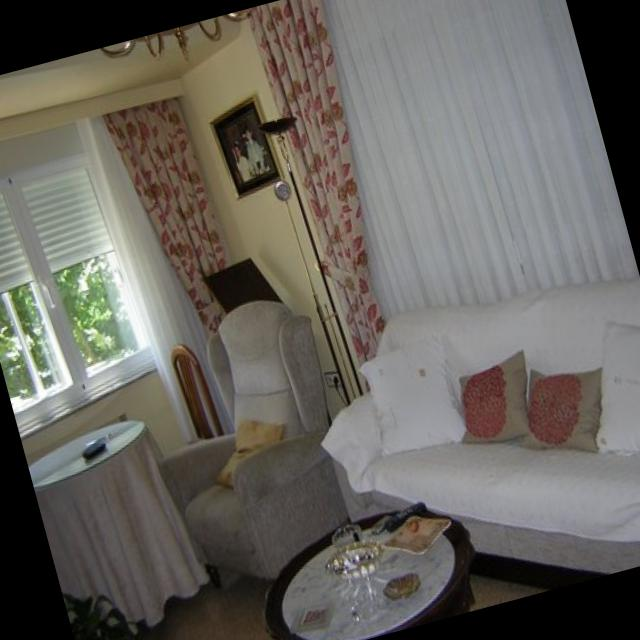2001: (21, 164, 149, 373), (0, 193, 71, 407)
2008: (23, 165, 115, 272), (0, 191, 33, 289)
chair -occluded-: (155, 297, 350, 572)
couch -x: (335, 275, 640, 570)
table top: (29, 418, 144, 486)
throw pillow: (358, 331, 470, 454), (459, 347, 539, 439), (521, 369, 600, 446), (598, 318, 640, 455)
